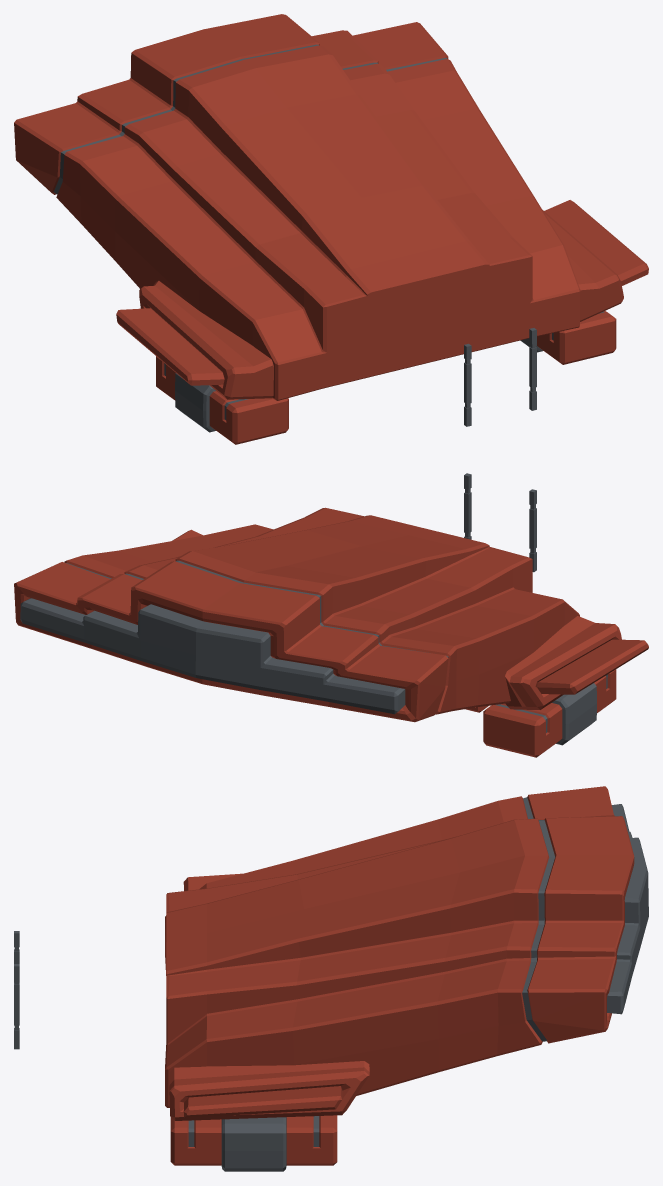
File: Dropship_01_Rear_Body_Red.fbx
3 views of the same model, one above another, from view 1: azimuth 30°, elevation 25°; view 2: azimuth 150°, elevation 25°; view 3: azimuth 270°, elevation 25° (orthographic). The views are drawn at different scales.
Parts seen in each view (by area): view 1: Dropship_01_Rear_Body_Red; view 2: Dropship_01_Rear_Body_Red; view 3: Dropship_01_Rear_Body_Red.
Boxes of the visible parts, <box> form: Dropship_01_Rear_Body_Red: <box>14,14,648,444</box>; Dropship_01_Rear_Body_Red: <box>14,473,648,757</box>; Dropship_01_Rear_Body_Red: <box>14,786,648,1171</box>.
Size of the model in its own units: 1331 by 589 by 1529.
1 material, 1 textured.
